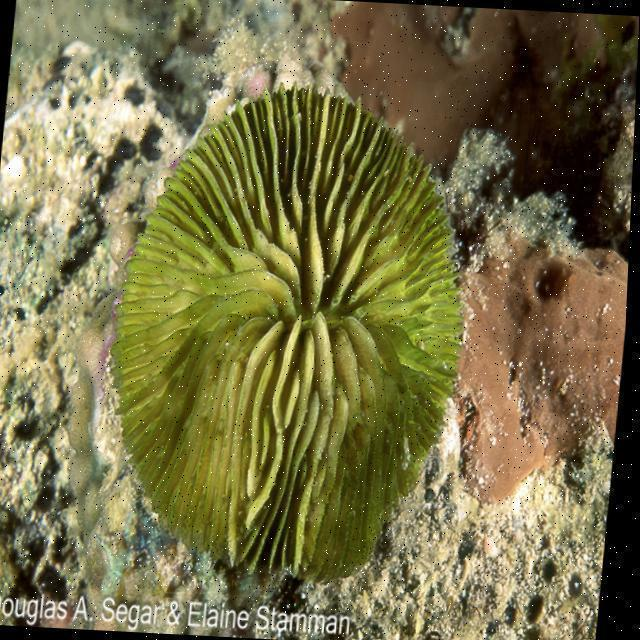Healthy Coral: (89, 53, 499, 592)
